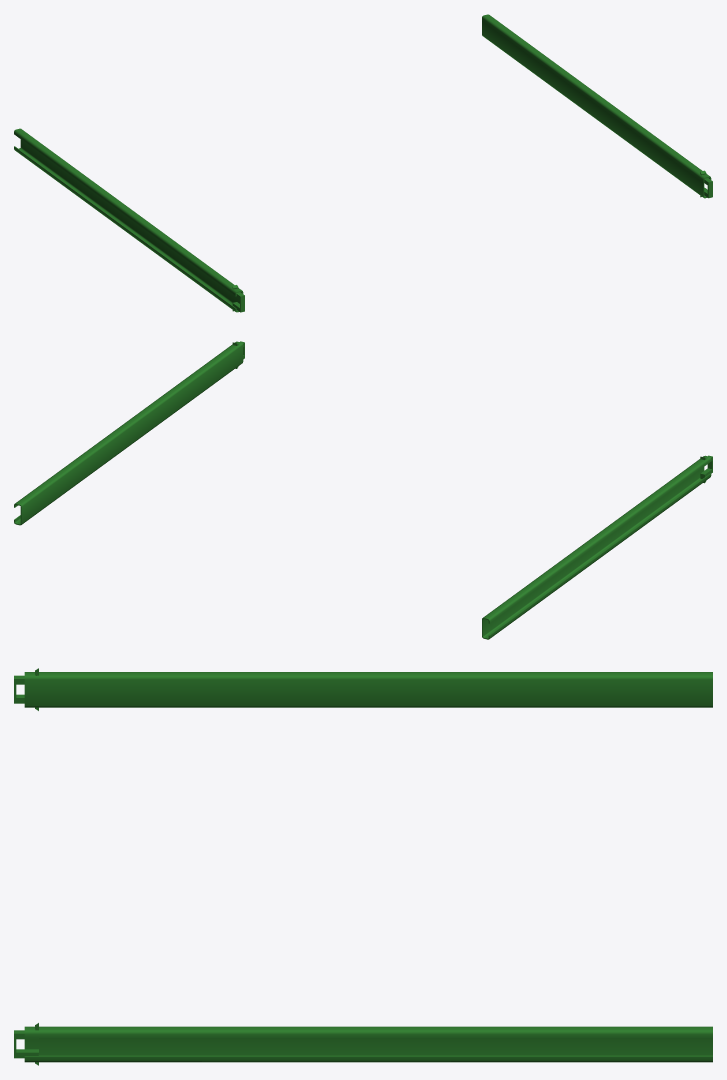
File: SM_Dishwasher_Slide_Bottom.fbx
3 renders of one model, top to bottom at view 1: azimuth 30°, elevation 25°; view 2: azimuth 150°, elevation 25°; view 3: azimuth 270°, elevation 25°, orthographic. The views are drawn at different scales.
Parts seen in each view (by area): view 1: SM_Dishwasher_Slide_Bottom; view 2: SM_Dishwasher_Slide_Bottom; view 3: SM_Dishwasher_Slide_Bottom.
Boxes of the visible parts, left/top/right/bottom form: SM_Dishwasher_Slide_Bottom: left=14, top=14, right=712, bottom=312; SM_Dishwasher_Slide_Bottom: left=14, top=341, right=712, bottom=639; SM_Dishwasher_Slide_Bottom: left=14, top=668, right=712, bottom=1065.
Bounding box in the file's own units: 52.99 × 2.74 × 43.43.
